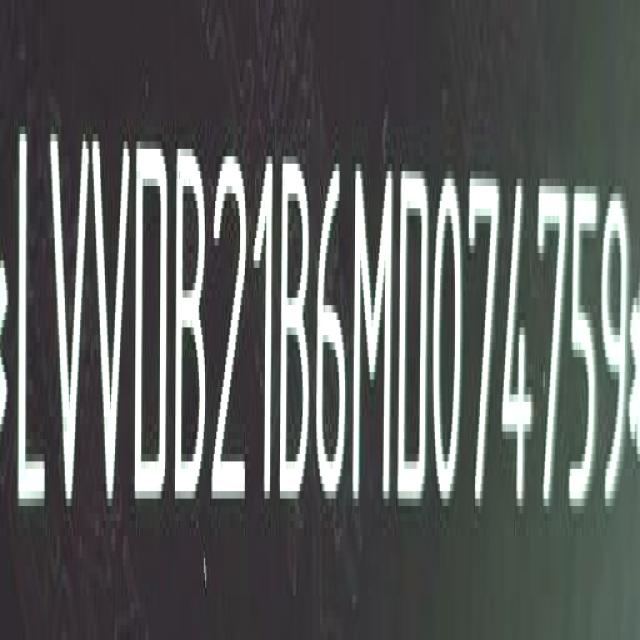0: (433, 166, 463, 514)
1: (255, 154, 277, 514)
2: (213, 152, 249, 515)
4: (503, 169, 533, 522)
5: (568, 178, 598, 520)
6: (316, 159, 347, 510)
7: (536, 171, 568, 519), (468, 164, 497, 521)
9: (601, 186, 629, 520)
B: (177, 145, 211, 512), (282, 153, 315, 510)
D: (132, 130, 170, 512), (397, 167, 431, 515)
L: (16, 123, 48, 524)
M: (351, 162, 392, 514)
V: (93, 124, 133, 515), (50, 123, 89, 518)
